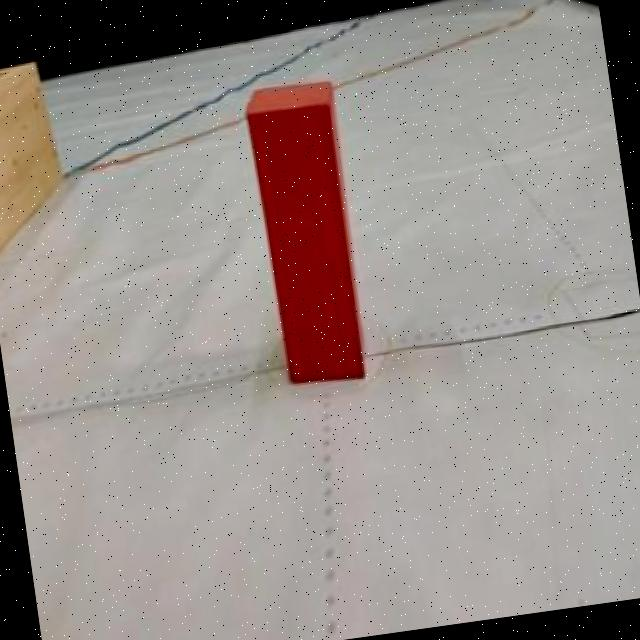redbox: (244, 79, 370, 388)
